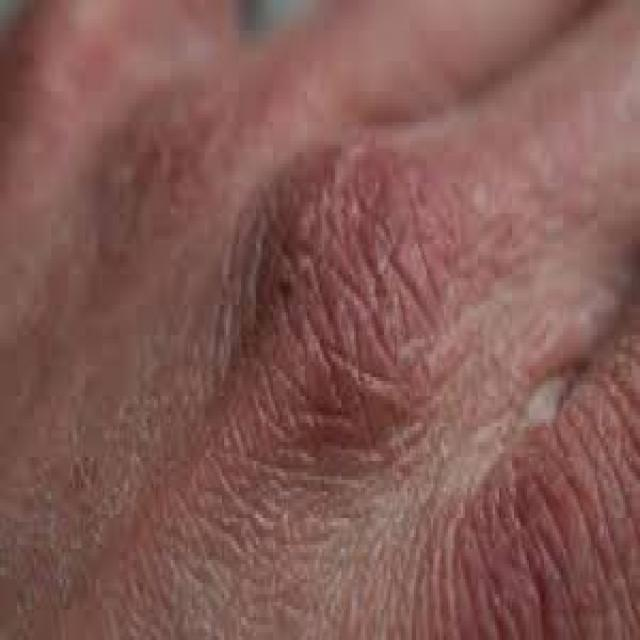Dry-Skin: (10, 340, 209, 624), (243, 148, 443, 402)
